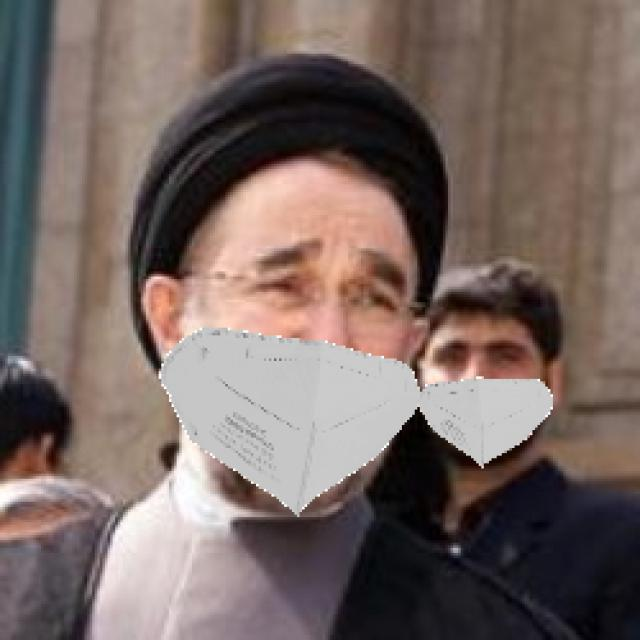kn95: (153, 134, 421, 518), (421, 298, 557, 468)
